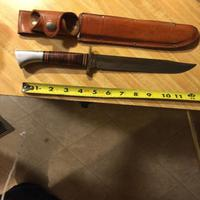knife: (10, 43, 196, 83)
